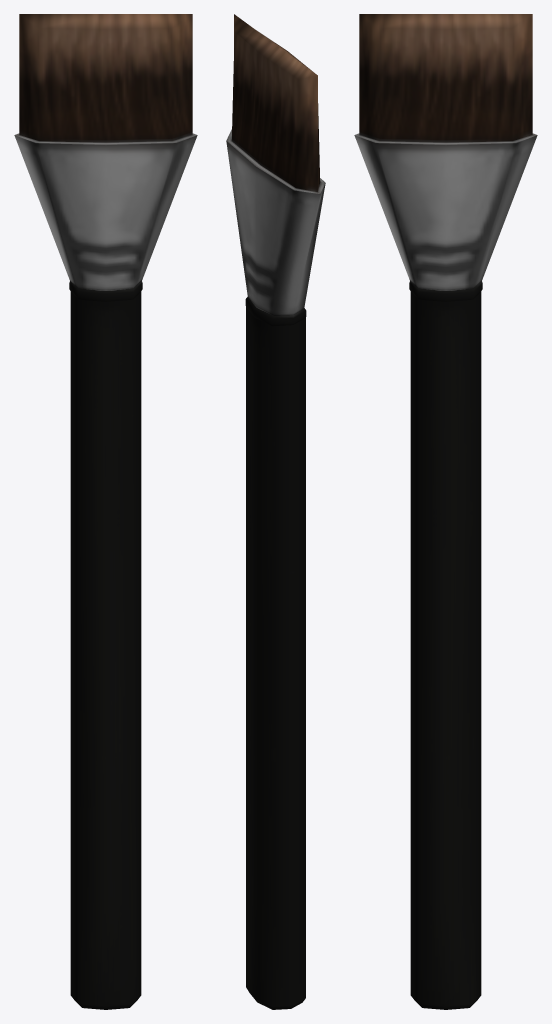
File: Makeup Brush.fbx
The picture shows the model from 3 angles, left to right: view 1: azimuth 90°, elevation 25°; view 2: azimuth 210°, elevation 25°; view 3: azimuth 270°, elevation 25°; orthographic projection. The views are drawn at different scales.
Visible parts, largest first — view 1: MakeUp_Brush; view 2: MakeUp_Brush; view 3: MakeUp_Brush.
Part boxes in pixels (box(x1,y1,x2,y2)): MakeUp_Brush: box(14, 14, 197, 1009); MakeUp_Brush: box(226, 14, 325, 1009); MakeUp_Brush: box(354, 14, 537, 1009).
Bounding box in the file's own units: 0.4329 × 9.03 × 1.52.
